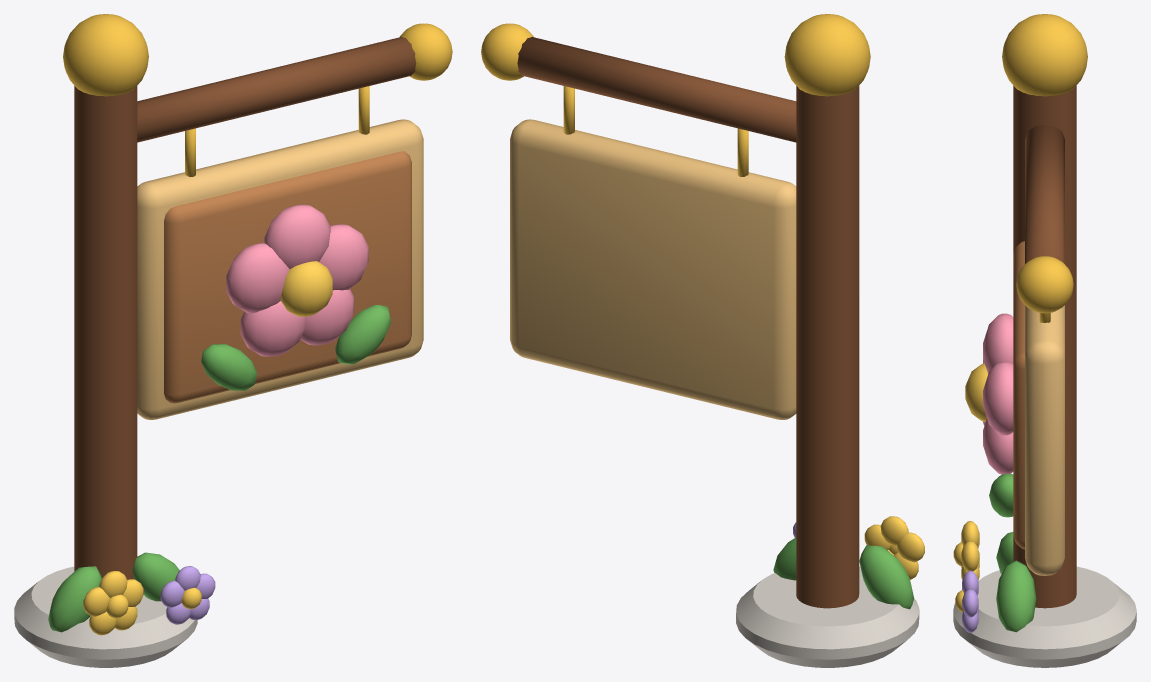
File: wood_sign.fbx
3 views of the same model, side by side, from view 1: azimuth 30°, elevation 25°; view 2: azimuth 150°, elevation 25°; view 3: azimuth 270°, elevation 25° (orthographic).
Parts seen in each view (by area): view 1: wood_sign_WoodDark, wood_sign_Wood, wood_sign_CrustLight, wood_sign_Pink, wood_sign_Gold, wood_sign_Stone, wood_sign_Green, wood_sign_Yellow, wood_sign_Lilac; view 2: wood_sign_CrustLight, wood_sign_WoodDark, wood_sign_Stone, wood_sign_Gold, wood_sign_Green, wood_sign_Yellow; view 3: wood_sign_WoodDark, wood_sign_Stone, wood_sign_CrustLight, wood_sign_Gold, wood_sign_Pink, wood_sign_Green, wood_sign_Wood, wood_sign_Yellow, wood_sign_Lilac.
Boxes of the visible parts, <box> form: wood_sign_WoodDark: <box>74,37,416,579</box>; wood_sign_Wood: <box>164,151,411,403</box>; wood_sign_CrustLight: <box>137,119,423,419</box>; wood_sign_Pink: <box>226,204,368,356</box>; wood_sign_Gold: <box>63,14,452,176</box>; wood_sign_Stone: <box>14,566,197,667</box>; wood_sign_Green: <box>48,305,391,632</box>; wood_sign_Yellow: <box>83,261,332,635</box>; wood_sign_Lilac: <box>160,566,215,624</box>; wood_sign_CrustLight: <box>510,119,796,419</box>; wood_sign_WoodDark: <box>517,37,859,608</box>; wood_sign_Stone: <box>736,566,919,667</box>; wood_sign_Gold: <box>481,14,870,176</box>; wood_sign_Green: <box>773,537,913,609</box>; wood_sign_Yellow: <box>864,516,924,579</box>; wood_sign_WoodDark: <box>1013,85,1076,608</box>; wood_sign_Stone: <box>953,566,1136,667</box>; wood_sign_CrustLight: <box>1025,305,1064,575</box>; wood_sign_Gold: <box>1002,14,1087,322</box>; wood_sign_Pink: <box>983,313,1013,474</box>; wood_sign_Green: <box>989,473,1036,632</box>; wood_sign_Wood: <box>1013,241,1024,549</box>; wood_sign_Yellow: <box>953,363,987,612</box>; wood_sign_Lilac: <box>962,570,978,632</box>.
Bounding box in the file's own units: 17 × 23.8 × 6.4.
